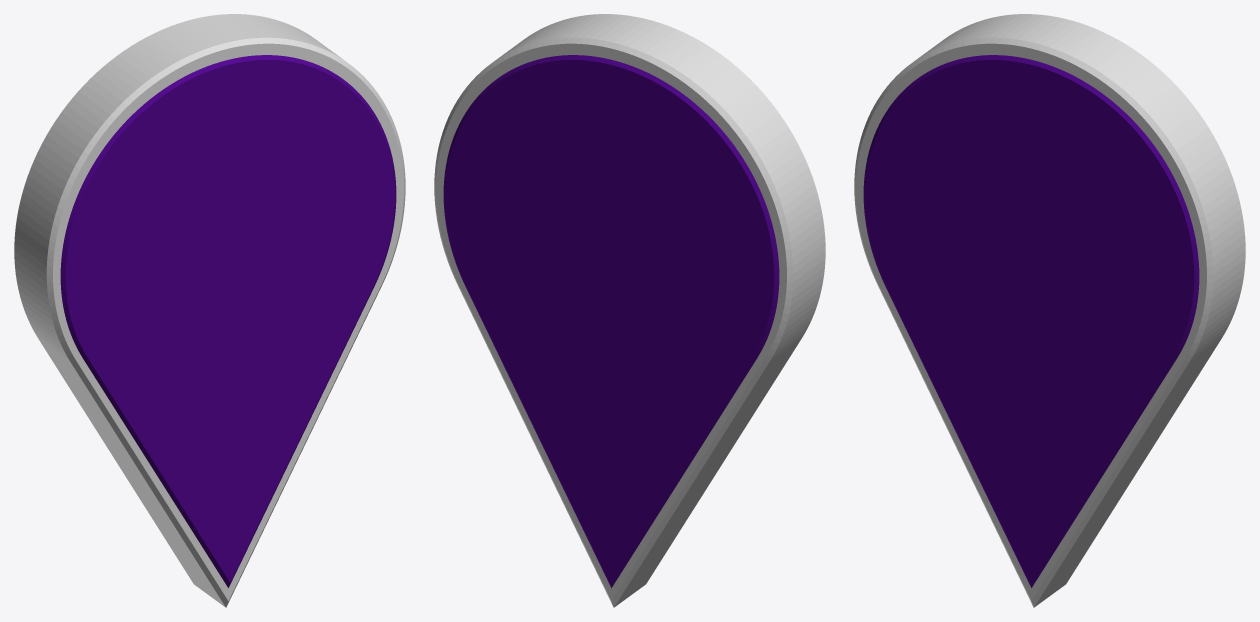
Rendered from plain-purple.glb.
The picture shows the model from 3 angles, left to right: view 1: azimuth 30°, elevation 25°; view 2: azimuth 150°, elevation 25°; view 3: azimuth 330°, elevation 25°; orthographic projection.
Parts seen in each view (by area): view 1: marker-body, rim; view 2: marker-body, rim; view 3: marker-body, rim.
Part boxes in pixels (left/top/right/bottom): marker-body: left=60, top=55, right=396, bottom=587; rim: left=14, top=14, right=405, bottom=607; marker-body: left=443, top=55, right=779, bottom=587; rim: left=434, top=14, right=825, bottom=607; marker-body: left=863, top=55, right=1199, bottom=587; rim: left=854, top=14, right=1245, bottom=607.
Bounding box in the file's own units: 2.24 × 3.37 × 0.44.
